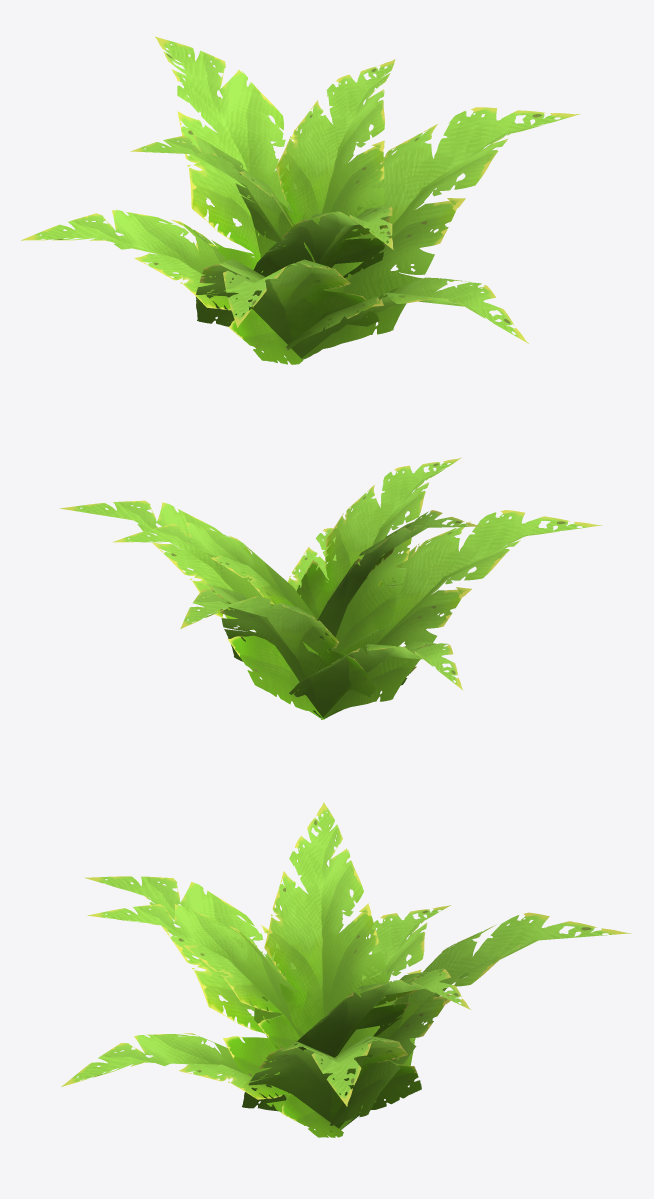
The model's file is bush_03.fbx.
The picture shows the model from 3 angles, top to bottom: view 1: azimuth 30°, elevation 25°; view 2: azimuth 150°, elevation 25°; view 3: azimuth 270°, elevation 25°; orthographic projection. The views are drawn at different scales.
Visible parts, largest first — view 1: leaf; view 2: leaf; view 3: leaf.
Boxes of the visible parts, x1,y1,x2,y2 form: leaf: (21,36,579,364); leaf: (60,457,602,719); leaf: (61,802,631,1137).
Bounding box in the file's own units: 710 × 344 × 695.
